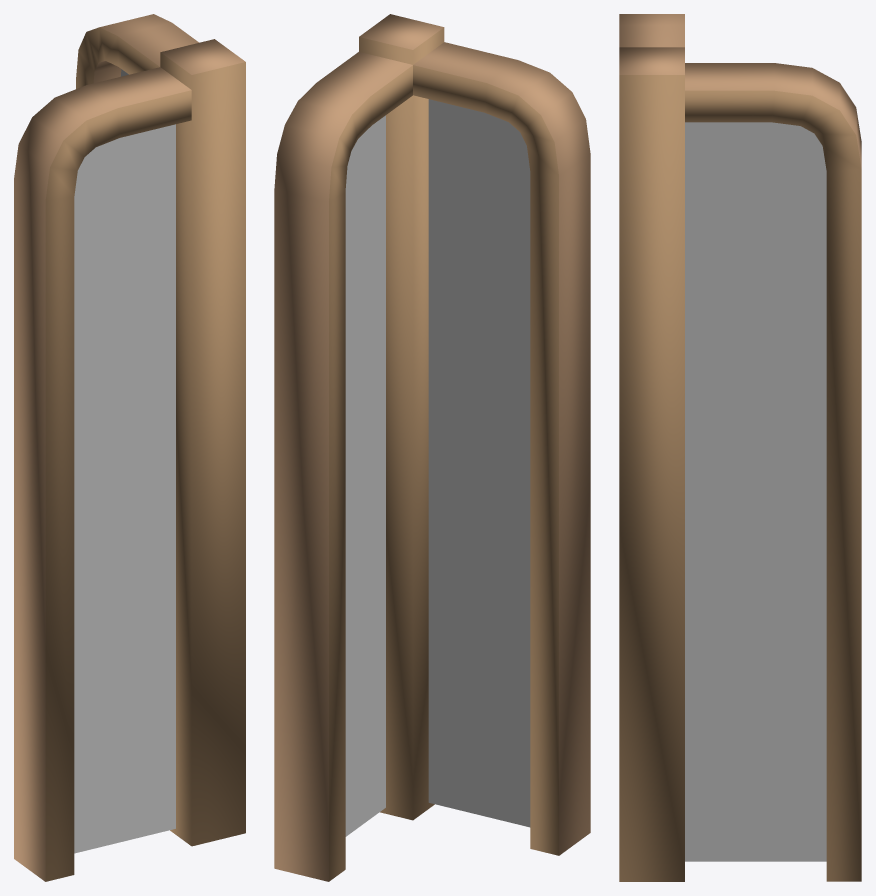
Rendered from Home_B_RF_33_04_SM.fbx.
3 views of the same model, side by side, from view 1: azimuth 30°, elevation 25°; view 2: azimuth 150°, elevation 25°; view 3: azimuth 270°, elevation 25° (orthographic). The views are drawn at different scales.
Parts seen in each view (by area): view 1: Home_B_RF_33_04, Home_B_RF_33_04_P; view 2: Home_B_RF_33_04, Home_B_RF_33_04_P; view 3: Home_B_RF_33_04_P, Home_B_RF_33_04.
Boxes of the visible parts, <box> form: Home_B_RF_33_04: <box>14,14,245,881</box>; Home_B_RF_33_04_P: <box>74,69,175,853</box>; Home_B_RF_33_04: <box>274,14,590,881</box>; Home_B_RF_33_04_P: <box>345,99,530,836</box>; Home_B_RF_33_04_P: <box>685,122,826,861</box>; Home_B_RF_33_04: <box>619,14,861,881</box>.
Bounding box in the file's own units: 55.54 × 204 × 55.54.
